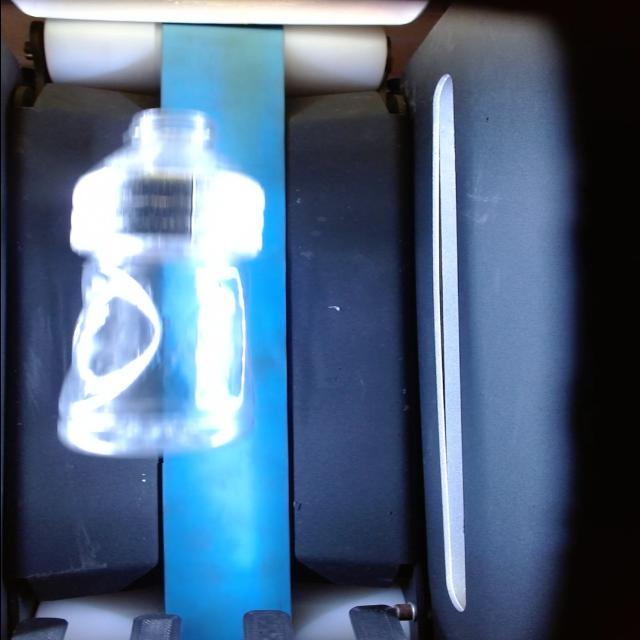bottom: (54, 267, 250, 463)
label: (63, 167, 272, 263)
neck: (101, 106, 238, 169)
